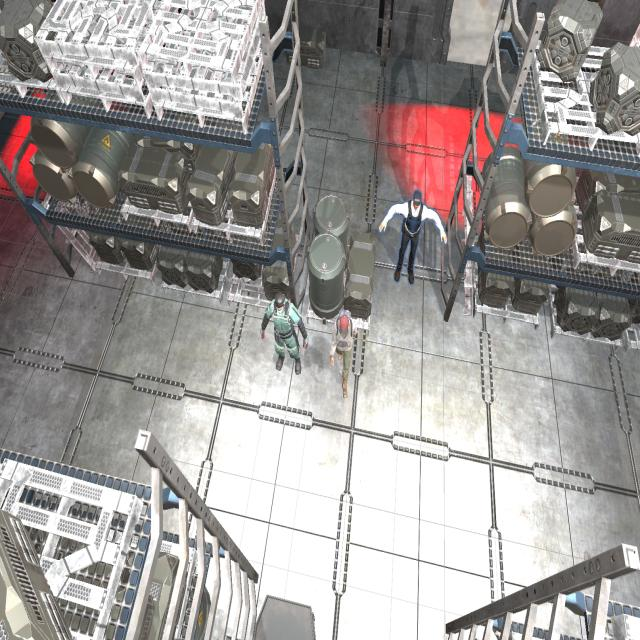thiefs: (328, 312, 360, 404)
